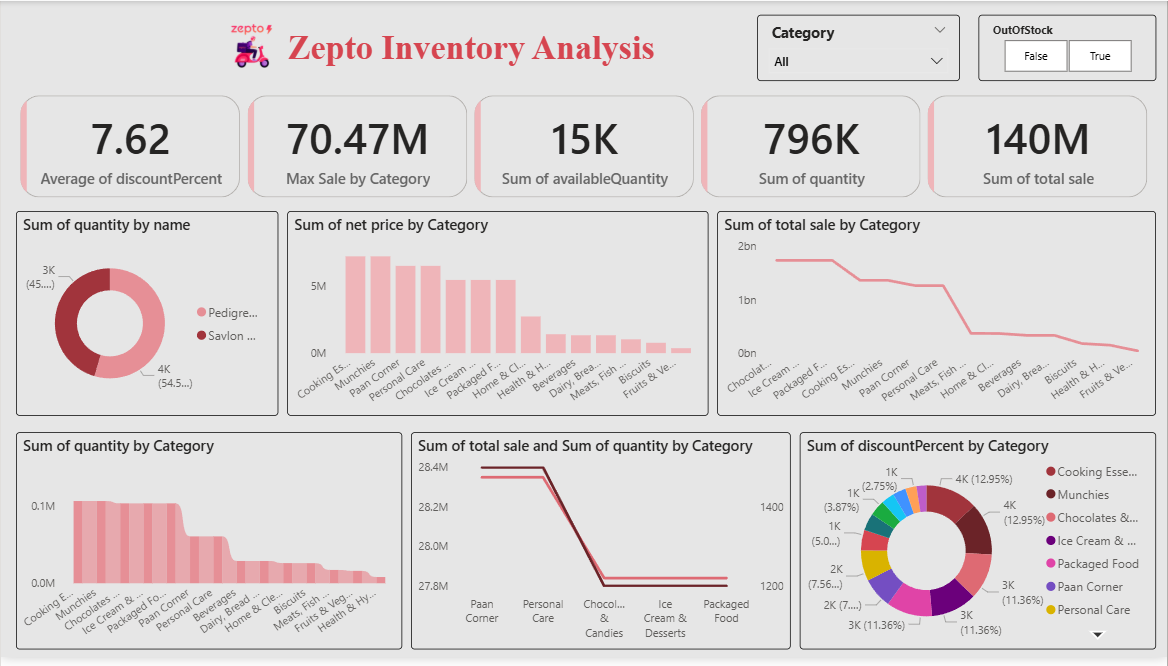

This screenshot's page, from the dashboard's own definition file:
{"tool":"powerbi","page":{"name":"Dashboard","canvas":[1280,720],"ordinal":0},"visuals":[{"type":"cardVisual","fields":{"Data":["Avg(Sheet1.discountPercent)","Sheet1.Max Sale by Category","Sum(Sheet1.availableQuantity)","Sum(Sheet1.quantity)","Sum(zepto_v2.total sale)"]},"box":[16.5,98.8,1251.5,122.1],"z":0},{"type":"slicer","fields":{"Values":["Sheet1.outOfStock"]},"box":[1073.1,15.1,194.9,72.7],"z":1000},{"type":"slicer","fields":{"Values":["Sheet1.Category"]},"box":[830.2,15.1,222.3,72.7],"z":2000},{"type":"donutChart","fields":{"Category":["zepto_v2.name"],"Y":["Sum(zepto_v2.quantity)"]},"box":[16.5,230.5,288.2,225],"z":3000},{"type":"donutChart","fields":{"Category":["Sheet1.Category"],"Y":["Sum(Sheet1.discountPercent)"]},"box":[876.8,473.4,391.1,238.8],"z":4000},{"type":"ribbonChart","fields":{"Category":["Sheet1.Category"],"Y":["Sum(Sheet1.quantity)"]},"box":[16.5,473.4,424,238.8],"z":5000},{"type":"clusteredColumnChart","fields":{"Category":["Sheet1.Category"],"Y":["Sum(Sheet1.net price)"]},"box":[314.2,230.5,462.4,225],"z":6000},{"type":"lineChart","fields":{"Category":["zepto_v2.Category"],"Y":["Sum(zepto_v2.total sale)"],"Y2":["Sum(zepto_v2.quantity)"]},"box":[450.1,473.4,417.2,238.8],"z":7000},{"type":"lineChart","fields":{"Category":["Sheet1.Category"],"Y":["Sum(Sheet1.total sale)"]},"box":[786.3,230.5,481.6,225],"z":8000},{"type":"textbox","box":[238.8,24.7,564,54.9],"z":9000},{"type":"image","box":[197.6,9.6,155.1,78.2],"z":10000}]}

Visuals, with their boxes in screenshot pixels (x1, y1, x2, y2), scaled from the page's 1280x720 canvas onto the 1168x666 screenshot:
cardVisual - Avg(Sheet1.discountPercent) x Sheet1.Max Sale by Category: [x1=15, y1=91, x2=1157, y2=204]
slicer - Sheet1.outOfStock: [x1=979, y1=14, x2=1157, y2=81]
slicer - Sheet1.Category: [x1=758, y1=14, x2=960, y2=81]
donutChart - zepto_v2.name x Sum(zepto_v2.quantity): [x1=15, y1=213, x2=278, y2=421]
donutChart - Sheet1.Category x Sum(Sheet1.discountPercent): [x1=800, y1=438, x2=1157, y2=659]
ribbonChart - Sheet1.Category x Sum(Sheet1.quantity): [x1=15, y1=438, x2=402, y2=659]
clusteredColumnChart - Sheet1.Category x Sum(Sheet1.net price): [x1=287, y1=213, x2=709, y2=421]
lineChart - zepto_v2.Category x Sum(zepto_v2.total sale): [x1=411, y1=438, x2=791, y2=659]
lineChart - Sheet1.Category x Sum(Sheet1.total sale): [x1=717, y1=213, x2=1157, y2=421]
textbox: [x1=218, y1=23, x2=733, y2=74]
image: [x1=180, y1=9, x2=322, y2=81]
